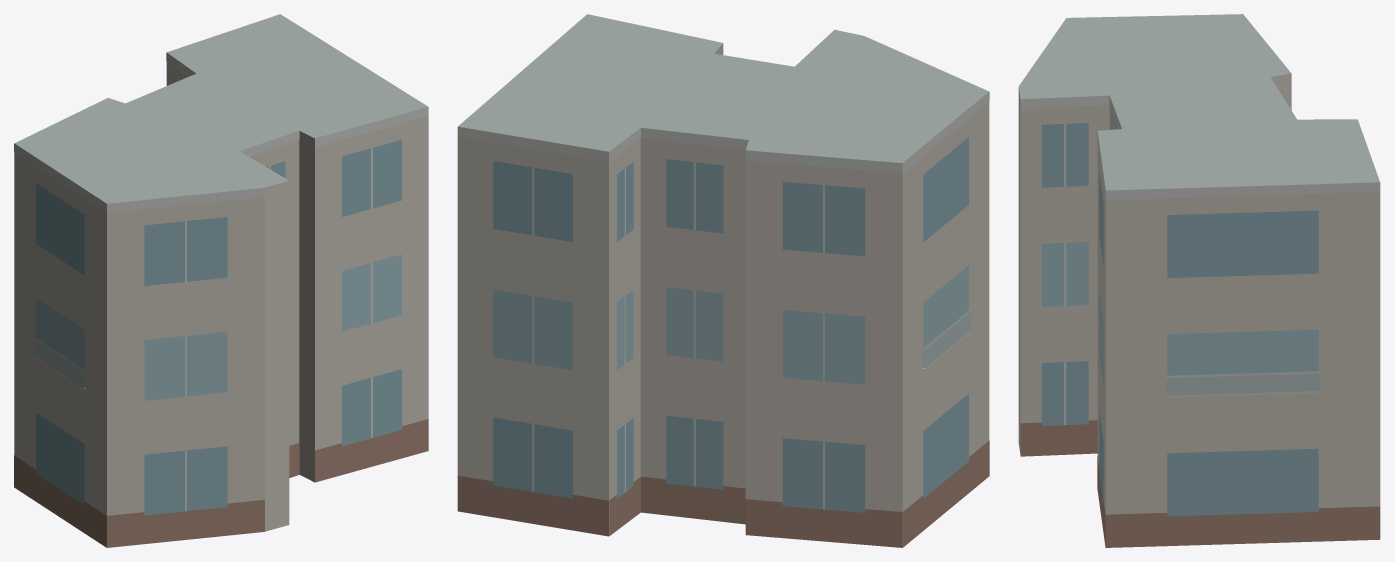
Rendered from survey-upis-32459903.glb.
3 views of the same model, side by side, from view 1: azimuth 30°, elevation 25°; view 2: azimuth 150°, elevation 25°; view 3: azimuth 270°, elevation 25° (orthographic). The views are drawn at different scales.
Parts seen in each view (by area): view 1: survey-upis-32459903.tmp; view 2: survey-upis-32459903.tmp; view 3: survey-upis-32459903.tmp.
Boxes of the visible parts, box(x1,y1,x2,y2) form: survey-upis-32459903.tmp: box(14, 14, 428, 547); survey-upis-32459903.tmp: box(457, 14, 989, 547); survey-upis-32459903.tmp: box(1018, 14, 1380, 547).
Size of the model in its own units: 9.7 by 9.15 by 8.4.
